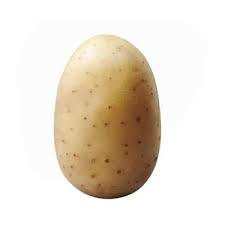potato: (50, 25, 157, 203)
